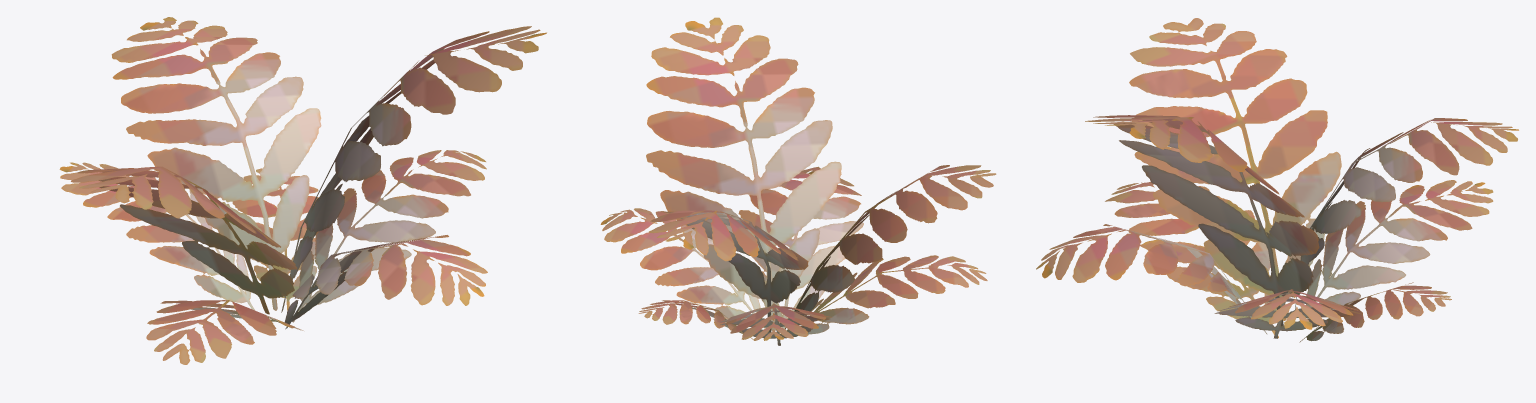
Rendered from pref_sm_beach_winter_techptree05a_lv3.fbx.
3 renders of one model, left to right at view 1: azimuth 30°, elevation 25°; view 2: azimuth 150°, elevation 25°; view 3: azimuth 270°, elevation 25°, orthographic. The views are drawn at different scales.
Parts seen in each view (by area): view 1: pref_sm_beach_winter_techptree05a_lv3; view 2: pref_sm_beach_winter_techptree05a_lv3; view 3: pref_sm_beach_winter_techptree05a_lv3.
Part boxes in pixels (x1=…): pref_sm_beach_winter_techptree05a_lv3: x1=59, y1=17, x2=546, y2=364; pref_sm_beach_winter_techptree05a_lv3: x1=600, y1=17, x2=996, y2=345; pref_sm_beach_winter_techptree05a_lv3: x1=1036, y1=18, x2=1518, y2=342.
Bounding box in the file's own units: 1.73 × 1.05 × 1.53.
